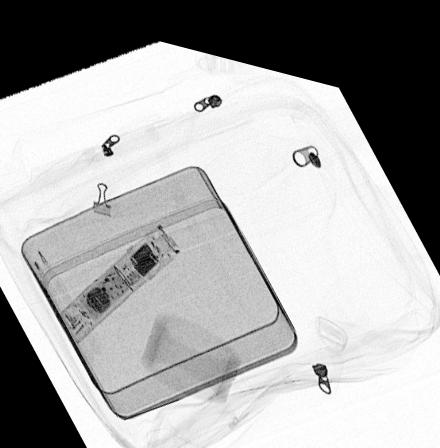Baton: (56, 214, 181, 342)
